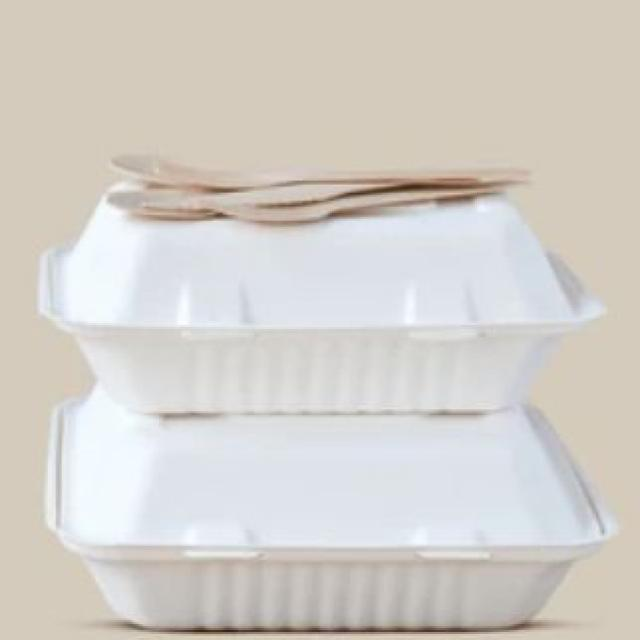electronic: (23, 378, 616, 632)
